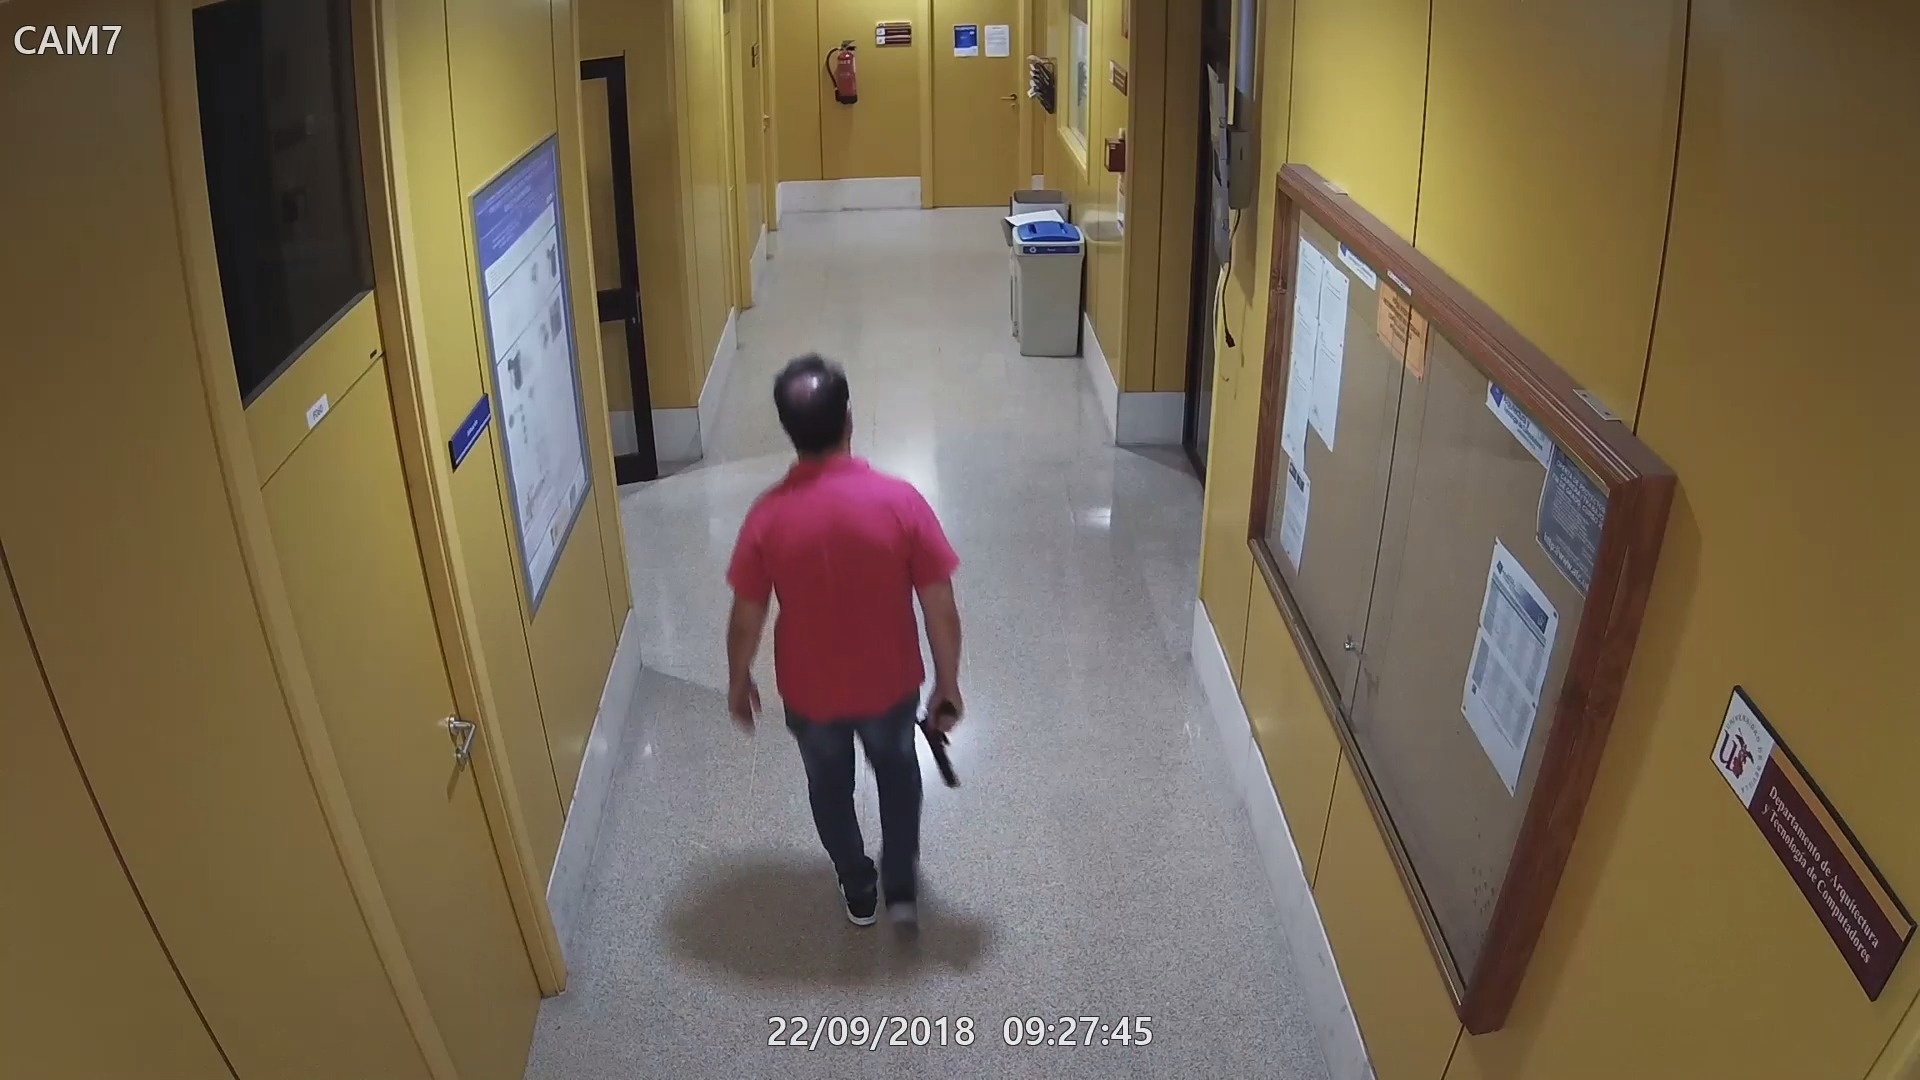Handgun: (913, 683, 973, 790)
